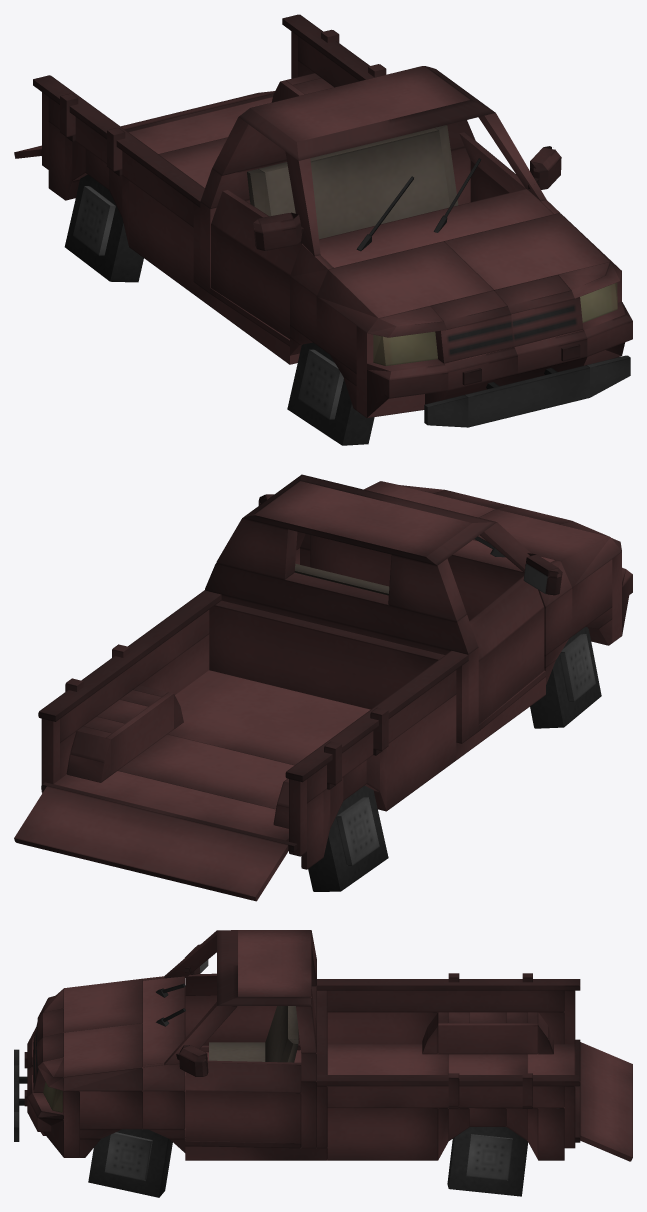
Rendered from truck_wreckage4.obj.
3 views of the same model, one above another, from view 1: azimuth 30°, elevation 25°; view 2: azimuth 150°, elevation 25°; view 3: azimuth 270°, elevation 25° (orthographic). The views are drawn at different scales.
Parts seen in each view (by area): view 1: bodyModel82, bodyModel142, bodyModel63, bodyModel71, bodyModel80, bodyModel122, bodyModel58, bodyModel3, bodyModel15, bodyModel133, bodyModel14, bodyModel131 (+48 smaller); view 2: bodyModel13, bodyModel8, bodyModel82, bodyModel48, bodyModel128, bodyModel49, bodyModel80, bodyModel14, bodyModel58, bodyModel63, bodyModel122, bodyModel100 (+29 smaller); view 3: bodyModel82, bodyModel126, bodyModel45, bodyModel51, bodyModel13, bodyModel71, bodyModel9, bodyModel63, bodyModel48, bodyModel58, bodyModel127, bodyModel61 (+45 smaller).
Boxes of the visible parts, left/top/right/bottom form: bodyModel82: left=239, top=66, right=495, bottom=160; bodyModel142: left=258, top=128, right=449, bottom=239; bodyModel63: left=316, top=241, right=494, bottom=332; bodyModel71: left=444, top=213, right=621, bottom=289; bodyModel80: left=319, top=189, right=553, bottom=267; bodyModel122: left=211, top=224, right=289, bottom=338; bodyModel58: left=129, top=180, right=199, bottom=298; bodyModel3: left=465, top=365, right=589, bottom=427; bodyModel15: left=33, top=75, right=204, bottom=207; bodyModel133: left=64, top=174, right=143, bottom=282; bodyModel14: left=128, top=97, right=272, bottom=153; bodyModel131: left=287, top=342, right=374, bottom=445; bodyModel13: left=14, top=786, right=288, bottom=901; bodyModel8: left=209, top=600, right=468, bottom=743; bodyModel82: left=242, top=474, right=496, bottom=565; bodyModel48: left=167, top=670, right=370, bottom=765; bodyModel128: left=205, top=563, right=478, bottom=654; bodyModel49: left=118, top=734, right=294, bottom=809; bodyModel80: left=310, top=535, right=554, bottom=620; bodyModel14: left=53, top=771, right=288, bottom=841; bodyModel58: left=386, top=694, right=456, bottom=810; bodyModel63: left=473, top=509, right=621, bottom=587; bodyModel122: left=478, top=608, right=544, bottom=724; bodyModel100: left=38, top=590, right=221, bottom=721; bodyModel82: left=217, top=930, right=311, bottom=1005; bodyModel126: left=185, top=1090, right=301, bottom=1144; bodyModel45: left=327, top=1108, right=438, bottom=1160; bodyModel51: left=327, top=990, right=564, bottom=1012; bodyModel13: left=579, top=1042, right=632, bottom=1161; bodyModel71: left=64, top=1023, right=142, bottom=1091; bodyModel9: left=327, top=1086, right=564, bottom=1107; bodyModel63: left=64, top=978, right=142, bottom=1032; bodyModel48: left=327, top=1044, right=448, bottom=1074; bodyModel58: left=327, top=1012, right=438, bottom=1044; bodyModel127: left=185, top=1060, right=301, bottom=1093; bodyModel61: left=438, top=1023, right=538, bottom=1054.
Bounding box in the file's own units: 3.28 × 2.45 × 7.34.
Materials: 1 (1 with a texture image).
